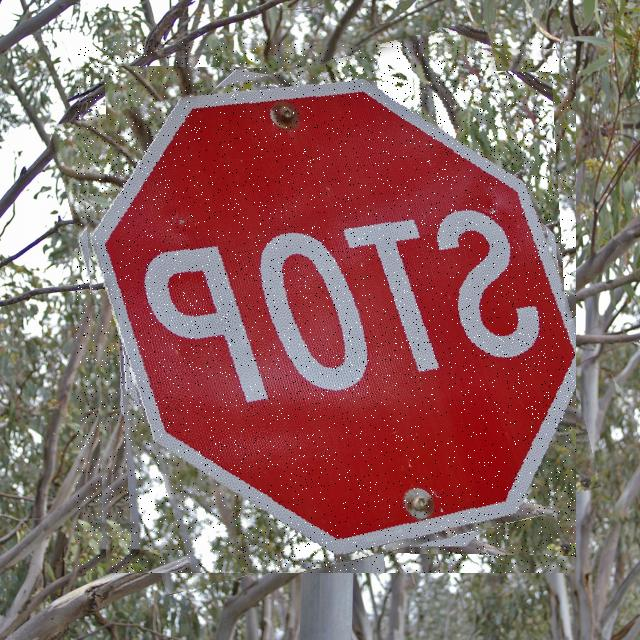stop: (76, 42, 576, 573)
